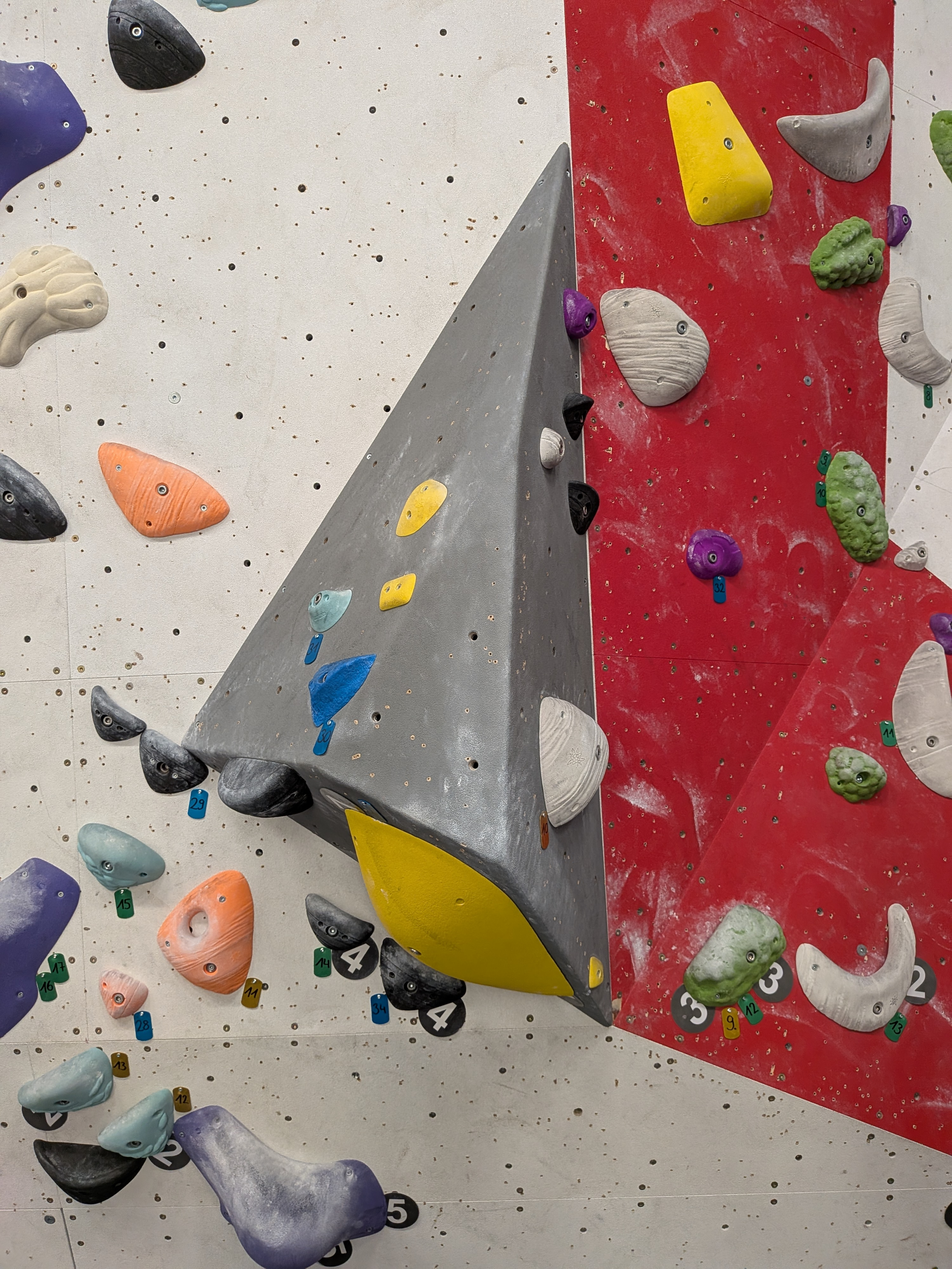hold: (345, 809, 573, 997), (174, 1106, 387, 1269), (796, 904, 916, 1032), (668, 81, 772, 225), (0, 858, 80, 1037), (777, 58, 891, 182), (0, 245, 108, 366), (600, 288, 709, 406), (98, 443, 230, 536), (0, 59, 86, 201), (158, 871, 254, 993), (684, 904, 786, 1008), (893, 641, 952, 798), (108, 0, 205, 90), (541, 698, 609, 826), (878, 278, 952, 386), (824, 451, 890, 564), (34, 1139, 145, 1205), (18, 1048, 113, 1114), (380, 937, 466, 1009), (0, 454, 67, 541), (218, 757, 312, 817), (77, 824, 165, 888), (810, 217, 885, 290), (98, 1089, 173, 1159), (309, 654, 376, 728), (140, 731, 207, 794), (305, 895, 374, 953), (828, 746, 887, 801), (90, 686, 145, 743), (397, 480, 446, 536), (687, 530, 742, 577), (99, 970, 147, 1018), (309, 589, 352, 633), (563, 289, 597, 339), (569, 481, 599, 534), (930, 110, 952, 181), (562, 393, 594, 440), (380, 573, 415, 609), (886, 204, 911, 247), (894, 541, 929, 570), (929, 613, 952, 656), (540, 427, 563, 469), (197, 0, 256, 11), (589, 957, 603, 988), (329, 678, 329, 679), (452, 927, 452, 927), (182, 43, 182, 43)
volume: (181, 143, 613, 1028)
